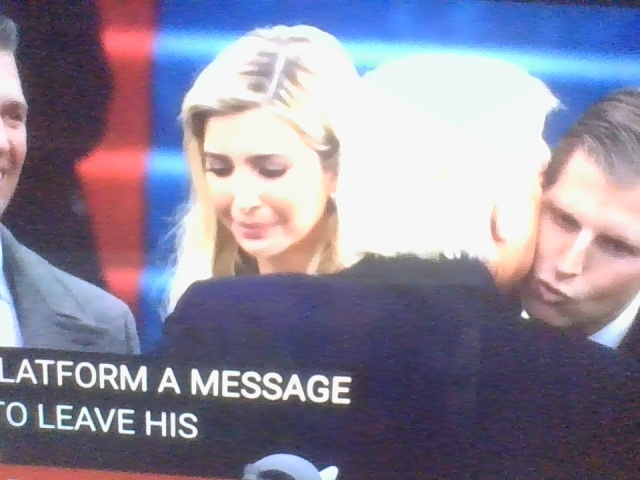fake: (194, 57, 345, 271)
